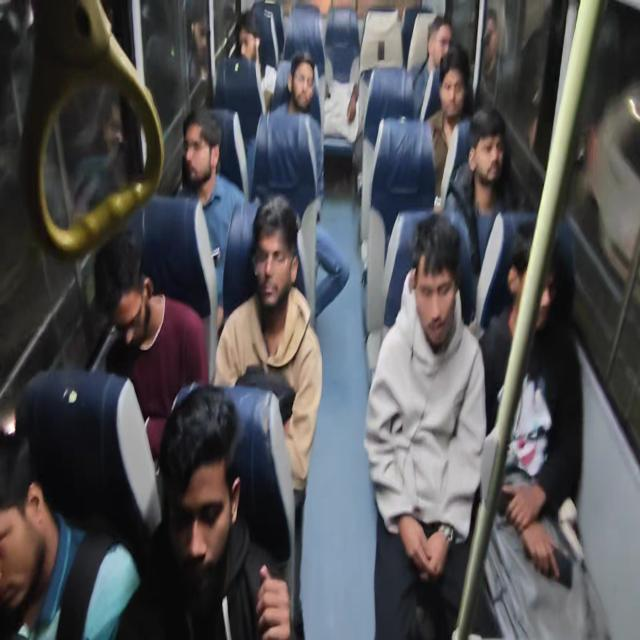person: (0, 387, 88, 601), (157, 399, 245, 542), (494, 193, 566, 357), (396, 228, 478, 351), (321, 58, 389, 203), (113, 239, 178, 388), (232, 188, 288, 308), (162, 126, 238, 210), (469, 106, 512, 208), (220, 2, 266, 82), (422, 18, 458, 86), (440, 61, 469, 133), (289, 47, 324, 102)
